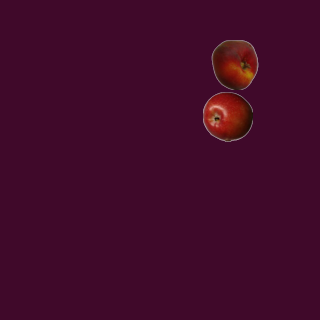Apple Braeburn: (202, 91, 252, 141)
Nectarine Flat: (209, 39, 259, 89)
